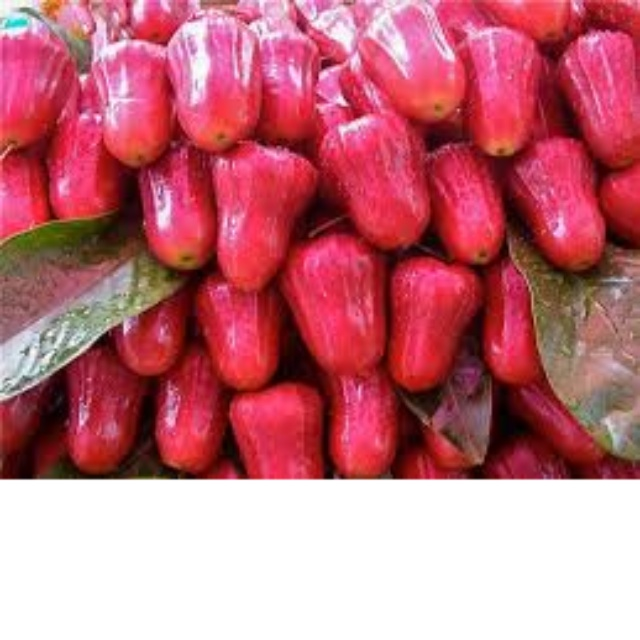xoai: (324, 109, 442, 249), (281, 236, 398, 376), (202, 146, 308, 286), (163, 12, 262, 147), (513, 133, 608, 270), (348, 1, 460, 117), (388, 250, 476, 391), (192, 269, 291, 391), (424, 139, 509, 270), (211, 389, 328, 479), (46, 96, 130, 220), (462, 17, 534, 158), (94, 33, 173, 159)
